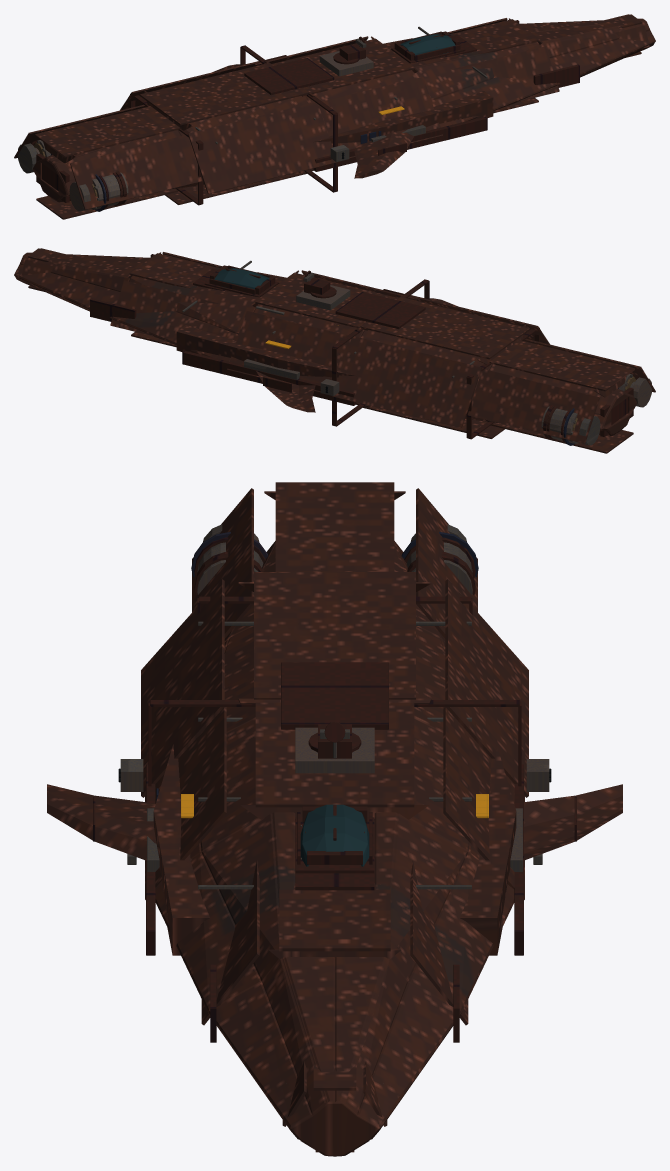
The model's file is ashline_rig_production_v1_lod1.glb.
3 views of the same model, one above another, from view 1: azimuth 30°, elevation 25°; view 2: azimuth 150°, elevation 25°; view 3: azimuth 270°, elevation 25° (orthographic). The views are drawn at different scales.
Visible parts, largest first — view 1: LOD1_Hull, LOD1_Armor, LOD1_Mechanical, LOD1_Canopy; view 2: LOD1_Hull, LOD1_Armor, LOD1_Mechanical, LOD1_Canopy; view 3: LOD1_Hull, LOD1_Armor, LOD1_Mechanical, LOD1_Canopy.
Boxes of the visible parts, bbox=[...] form: LOD1_Hull: bbox=[14, 14, 655, 219]; LOD1_Armor: bbox=[36, 20, 579, 209]; LOD1_Mechanical: bbox=[17, 26, 487, 211]; LOD1_Canopy: bbox=[400, 34, 455, 55]; LOD1_Hull: bbox=[14, 248, 655, 453]; LOD1_Armor: bbox=[90, 254, 633, 443]; LOD1_Mechanical: bbox=[182, 260, 652, 445]; LOD1_Canopy: bbox=[214, 268, 269, 289]; LOD1_Hull: bbox=[47, 482, 622, 1156]; LOD1_Armor: bbox=[93, 537, 576, 1042]; LOD1_Mechanical: bbox=[120, 524, 549, 1083]; LOD1_Canopy: bbox=[300, 804, 369, 866].
Size of what is drawn, in the model's own units: 14.56 by 2.47 by 6.1.
9 materials, 9 textured.
